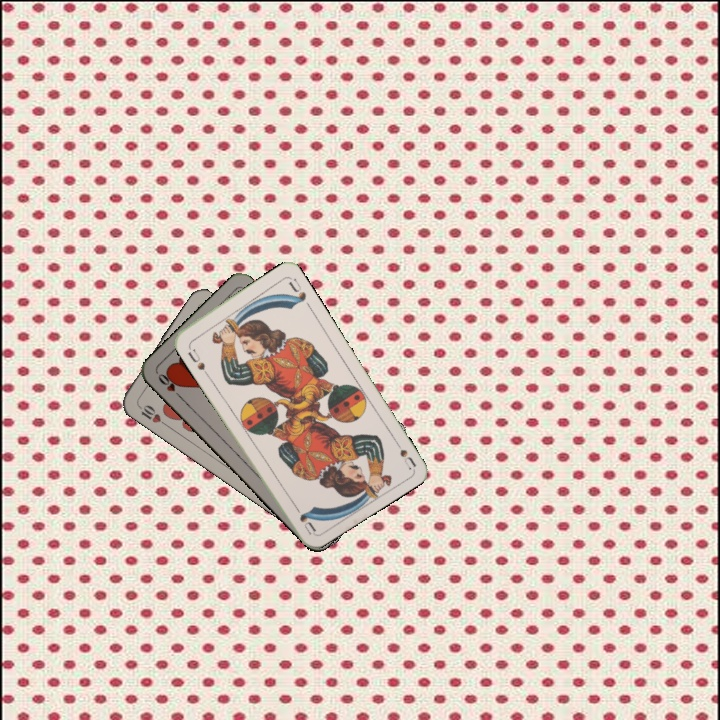H10: (133, 400, 169, 428)
HO: (154, 369, 185, 402)
SU: (389, 433, 418, 471), (183, 345, 210, 378)
